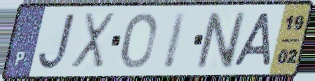A: (231, 11, 273, 69)
I: (160, 10, 190, 72)
J: (35, 11, 79, 73)
N: (194, 10, 247, 71)
O: (119, 11, 159, 71)
X: (68, 11, 118, 72)
